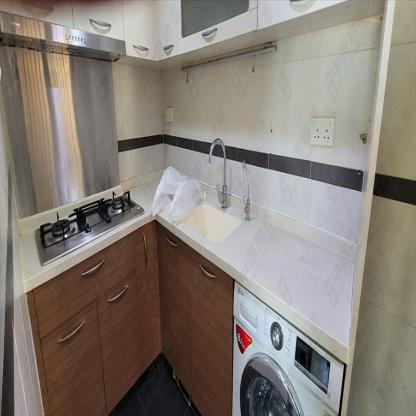Cupboard: (32, 220, 231, 415)
Exhaust Hood: (0, 8, 125, 61)
Faucet: (207, 133, 228, 207)
Sink: (181, 203, 240, 244)
Stove: (35, 188, 144, 265)
Washing Machine: (231, 280, 344, 415)
